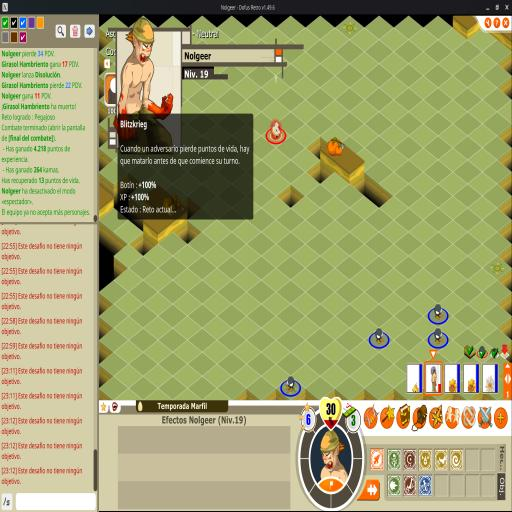Enemigos: (285, 376, 296, 393), (375, 328, 385, 345), (434, 328, 444, 345), (434, 304, 444, 320)
Personaje: (270, 121, 282, 139)
